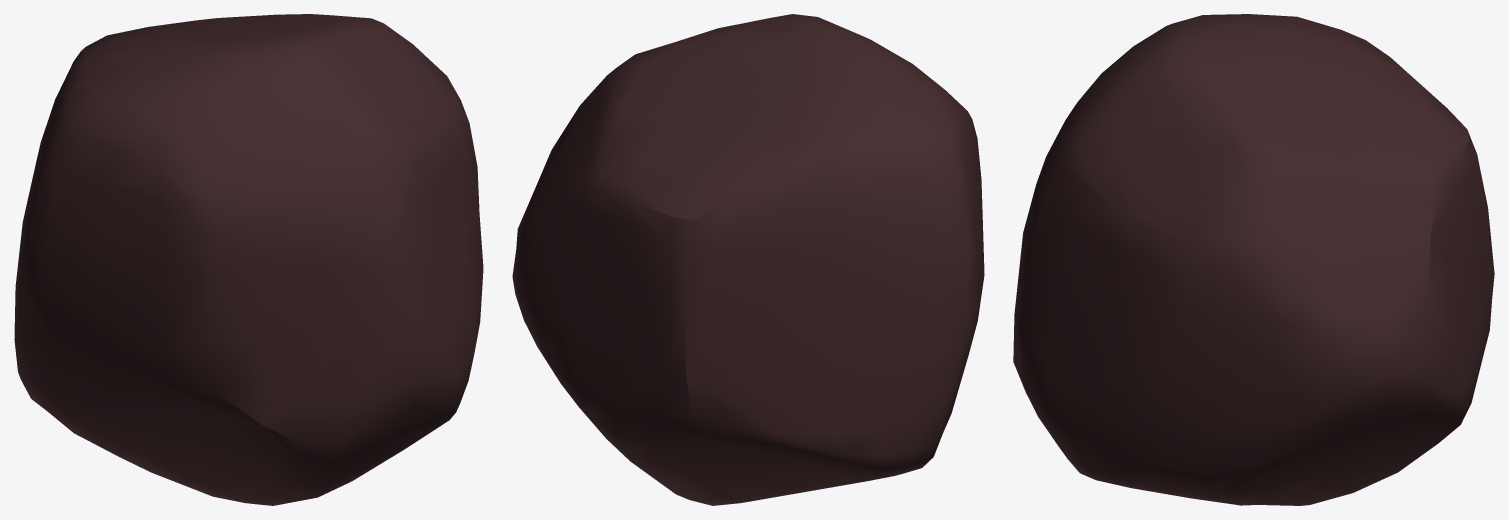
The model's file is Prop_CannonBall.glb.
The picture shows the model from 3 angles, left to right: view 1: azimuth 30°, elevation 25°; view 2: azimuth 150°, elevation 25°; view 3: azimuth 270°, elevation 25°; orthographic projection. The views are drawn at different scales.
Parts seen in each view (by area): view 1: Prop_CannonBall; view 2: Prop_CannonBall; view 3: Prop_CannonBall.
Part boxes in pixels (<box>): Prop_CannonBall: <box>14,14,483,505</box>; Prop_CannonBall: <box>512,14,984,505</box>; Prop_CannonBall: <box>1013,14,1494,505</box>.
Size of the model in its own units: 0.4043 by 0.4062 by 0.3903.
1 material, 1 textured.
